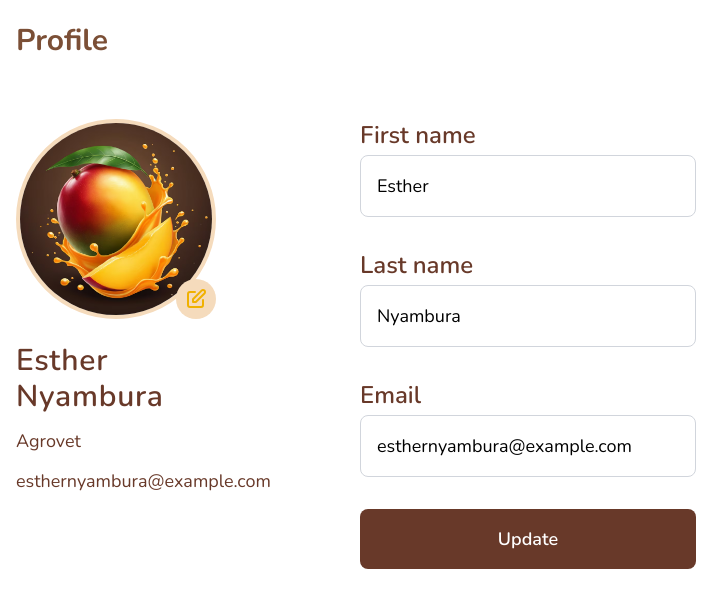
Scenario: ProfilePage › shows update error message on submission failure
Click the button "Update" at (528, 539), box x1=360 y1=509 x2=696 y2=569
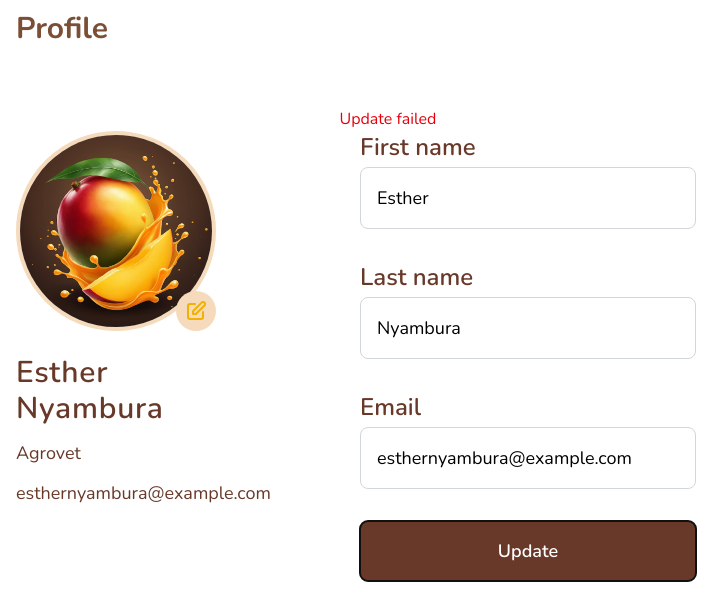
Check: the text "Update failed" is shown, box x1=340 y1=107 x2=436 y2=131
